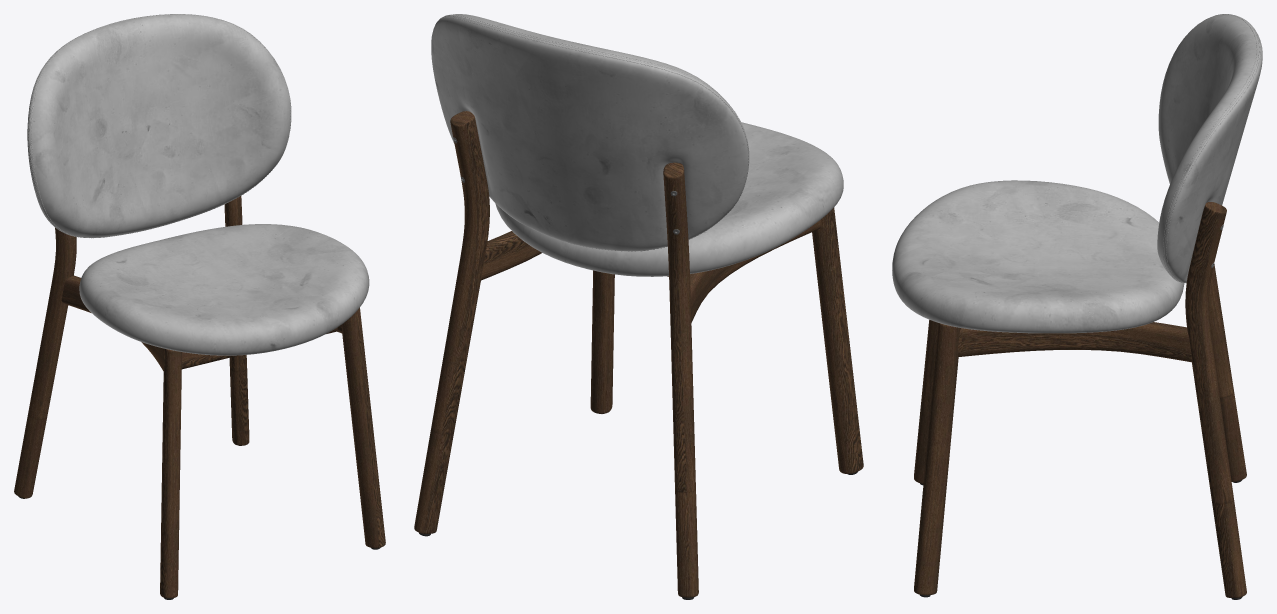
File: chair.glb
The picture shows the model from 3 angles, left to right: view 1: azimuth 30°, elevation 25°; view 2: azimuth 150°, elevation 25°; view 3: azimuth 270°, elevation 25°; orthographic projection. The views are drawn at different scales.
Visible parts, largest first — view 1: ines_seat, ines_warp, ines_spline; view 2: ines_seat, ines_warp, ines_spline; view 3: ines_seat, ines_warp, ines_spline.
Part boxes in pixels (box(x1,y1,x2,y2)): ines_seat: box(27, 14, 369, 355); ines_warp: box(14, 196, 385, 598); ines_spline: box(28, 14, 291, 238); ines_seat: box(431, 14, 843, 276); ines_warp: box(414, 111, 863, 597); ines_spline: box(436, 14, 748, 251); ines_seat: box(892, 14, 1262, 333); ines_warp: box(914, 202, 1246, 597); ines_spline: box(1163, 14, 1260, 283).
Bounding box in the file's own units: 0.5049 × 0.8232 × 0.5631.
Materials: 4 (2 with a texture image).
